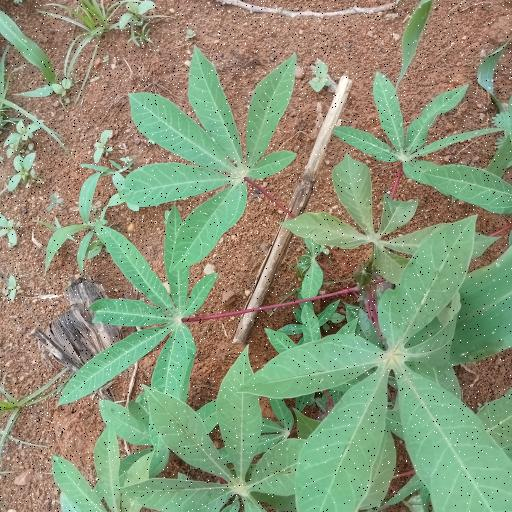Cassava_Mosaic: (277, 221, 505, 506), (124, 57, 300, 267), (118, 363, 331, 512)
